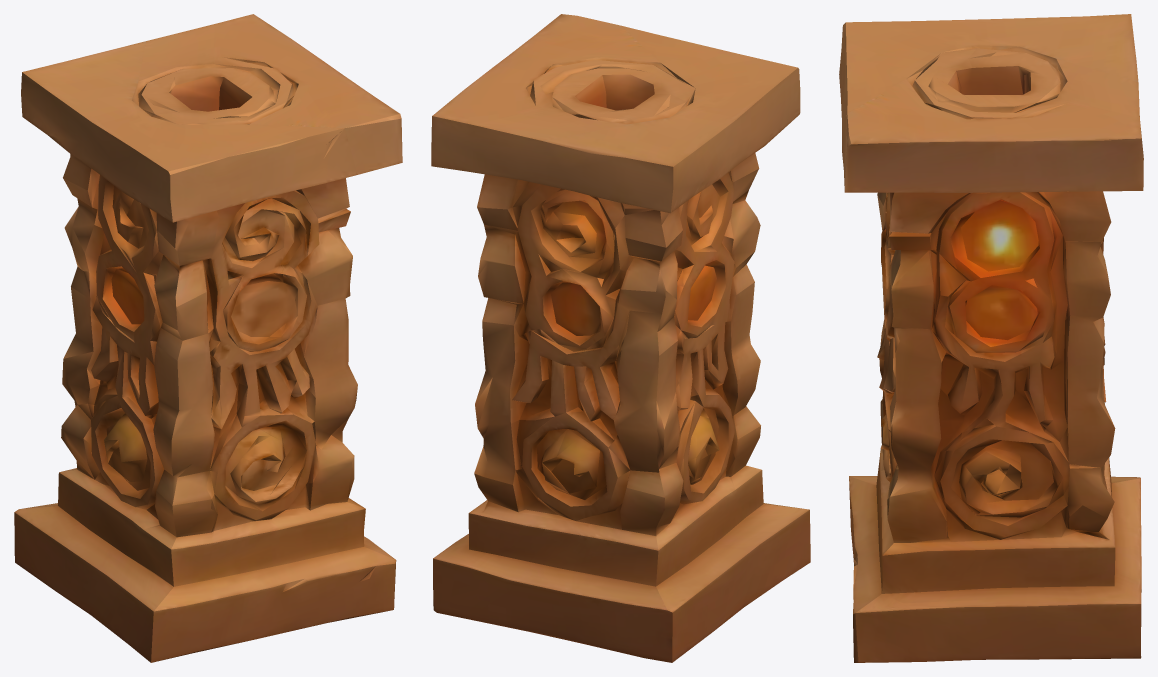
The model's file is m2FireJetPillar.glb.
The picture shows the model from 3 angles, left to right: view 1: azimuth 30°, elevation 25°; view 2: azimuth 150°, elevation 25°; view 3: azimuth 270°, elevation 25°; orthographic projection. The views are drawn at different scales.
Visible parts, largest first — view 1: model; view 2: model; view 3: model.
Boxes of the visible parts, x1,y1,x2,y2 form: model: (14,14,402,662); model: (431,14,810,662); model: (839,14,1143,662).
Bounding box in the file's own units: 0.9901 × 1.9 × 0.9956.
1 material, 1 textured.
